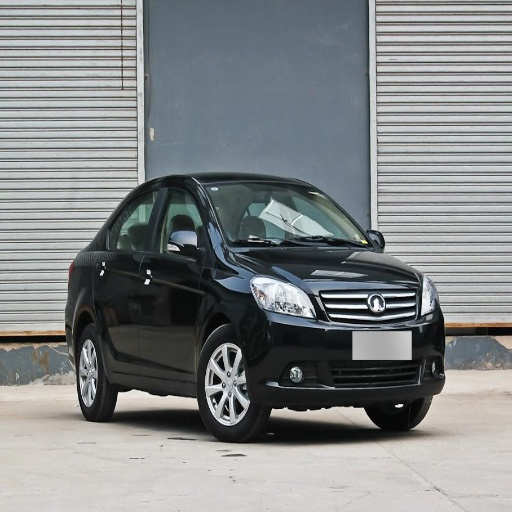front_bumper: (245, 288, 443, 409)
front_right_door: (139, 180, 205, 371)
front_right_light: (251, 275, 317, 322)
hood: (239, 247, 422, 315)
